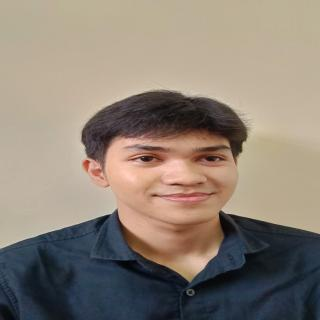Senang: (91, 120, 260, 223)
